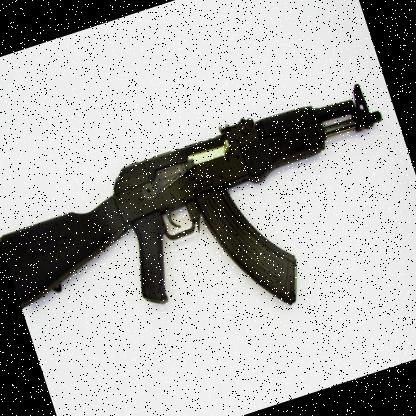rifle: (0, 51, 416, 392)
